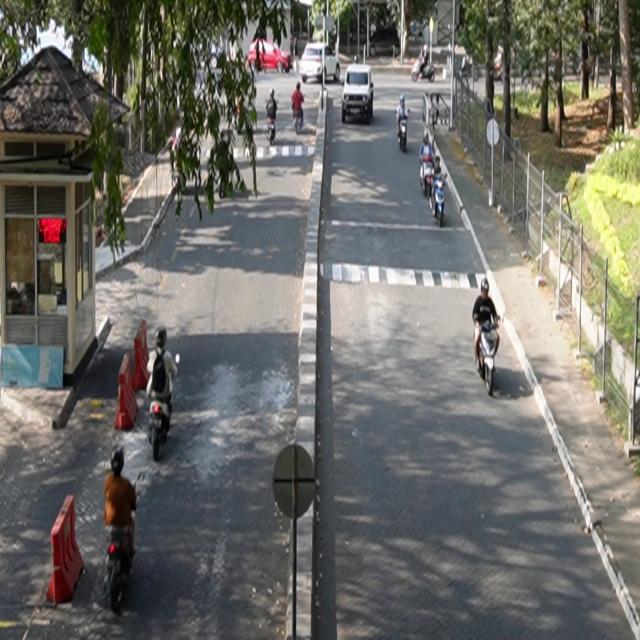car: (249, 39, 293, 75)
